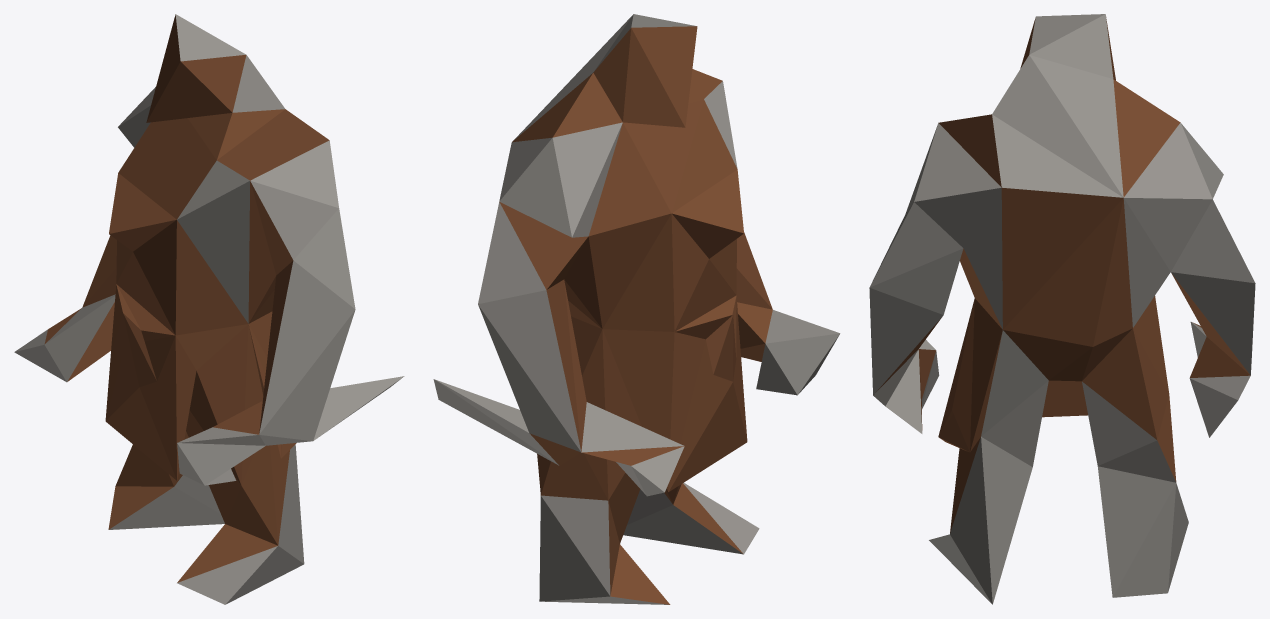
The picture shows the model from 3 angles, left to right: view 1: azimuth 30°, elevation 25°; view 2: azimuth 150°, elevation 25°; view 3: azimuth 270°, elevation 25°; orthographic projection. The views are drawn at different scales.
Parts seen in each view (by area): view 1: lion-200; view 2: lion-200; view 3: lion-200.
Part boxes in pixels (left/top/right/bottom): lion-200: left=14, top=14, right=404, bottom=604; lion-200: left=433, top=14, right=840, bottom=604; lion-200: left=869, top=14, right=1255, bottom=604.
Size of the model in its own units: 0.4517 by 1.01 by 0.6366.
